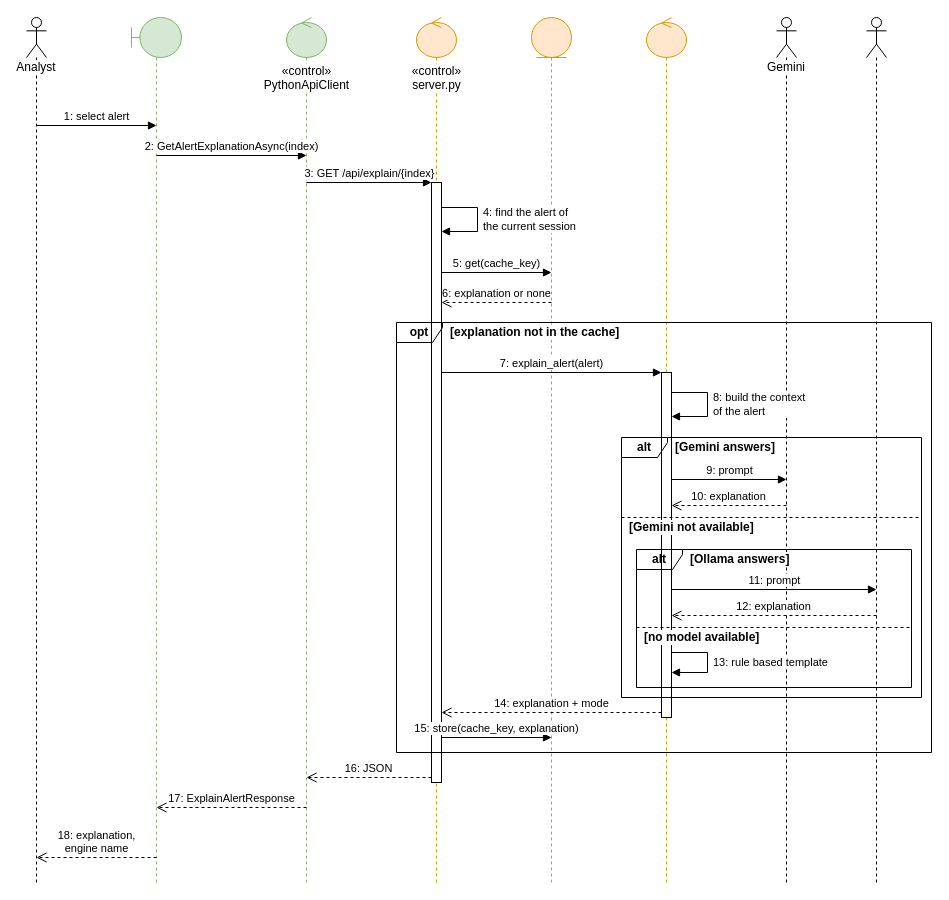
Some shapes in this 949 by 900 pixel diagram are drawn without their labels. The box of each missing label's shape, as (x1, y1, x2, y2) in pixels:
Ollama: (866, 16, 886, 882)
«boundary» AnomalyIntelViewModel: (130, 16, 182, 882)
«control» explainer.llm: (646, 16, 686, 882)
«entity» explanation cache: (530, 16, 572, 882)
